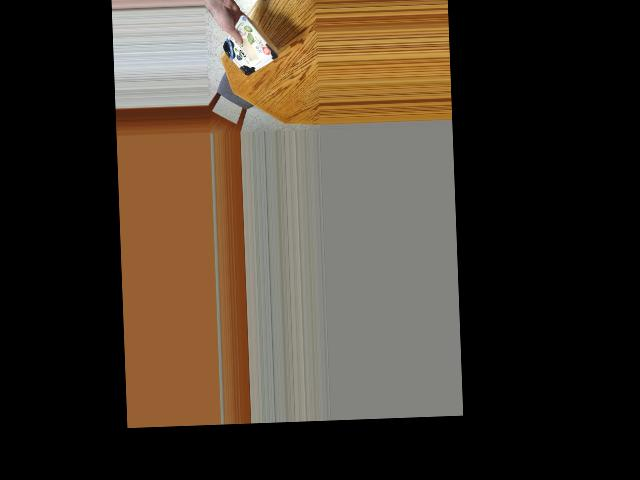cheese: (228, 21, 275, 76)
